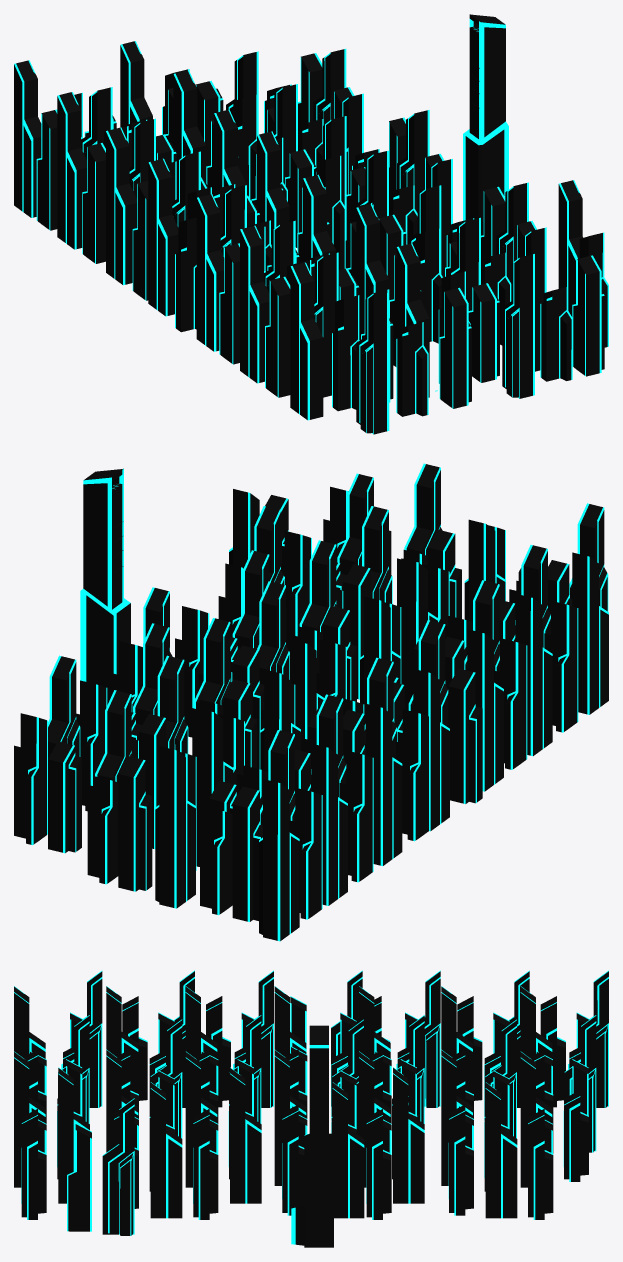
Rendered from tron_inspired_vr_playground3.glb.
The picture shows the model from 3 angles, top to bottom: view 1: azimuth 30°, elevation 25°; view 2: azimuth 150°, elevation 25°; view 3: azimuth 270°, elevation 25°; orthographic projection. The views are drawn at different scales.
Parts seen in each view (by area): view 1: Cube.144, Cube.145, Cube.027, Cube.038, Cube.158, Cube.148, Cube.155, Cube.147, Cube.151, Cube.152, Cube.029, Cube.036 (+51 smaller); view 2: Cube.144, Cube.078, Cube.152, Cube.145, Cube.158, Cube.081, Cube.149, Cube.082, Cube.147, Cube.155, Cube.151, Cube.157 (+58 smaller); view 3: Cube.144, Cube.159, Cube.044, Cube.055, Cube.066, Cube.019, Cube.006, Cube.082, Cube.016, Cube.036, Cube.063, Cube.058 (+56 smaller).
Part boxes in pixels (x1,y1,x2,y2): Cube.144: (463, 14, 508, 235); Cube.145: (290, 262, 323, 420); Cube.027: (356, 289, 389, 434); Cube.038: (502, 254, 534, 398); Cube.158: (106, 127, 137, 285); Cube.148: (148, 158, 178, 316); Cube.155: (57, 92, 86, 249); Cube.147: (240, 225, 269, 383); Cube.151: (196, 194, 224, 351); Cube.152: (14, 60, 41, 217); Cube.029: (439, 287, 471, 408); Cube.036: (572, 255, 604, 376); Cube.144: (80, 468, 130, 704); Cube.078: (155, 746, 195, 908); Cube.152: (259, 779, 299, 941); Cube.145: (572, 552, 608, 714); Cube.158: (365, 704, 402, 866); Cube.081: (118, 756, 152, 891); Cube.149: (448, 668, 482, 803); Cube.082: (14, 713, 47, 845); Cube.147: (515, 594, 552, 756); Cube.155: (311, 743, 347, 905); Cube.151: (467, 629, 503, 791); Cube.157: (396, 709, 429, 841); Cube.144: (291, 1025, 333, 1247); Cube.159: (102, 1098, 134, 1235); Cube.044: (150, 1082, 182, 1218); Cube.055: (485, 1082, 517, 1218); Cube.066: (393, 1067, 424, 1203); Cube.019: (230, 1067, 261, 1203); Cube.006: (332, 1082, 364, 1218); Cube.082: (528, 1109, 553, 1219); Cube.016: (193, 1109, 218, 1219); Cube.036: (21, 1109, 46, 1219); Cube.063: (366, 1109, 391, 1219); Cube.058: (449, 1104, 473, 1215).
Bounding box in the file's own units: 187 × 122 × 313.
